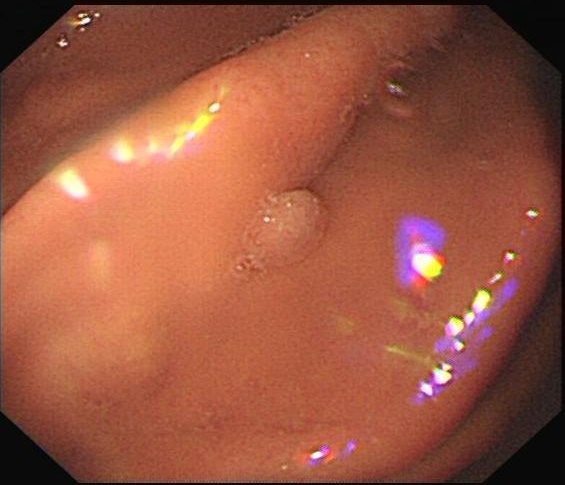Polyp: (210, 152, 358, 302)
